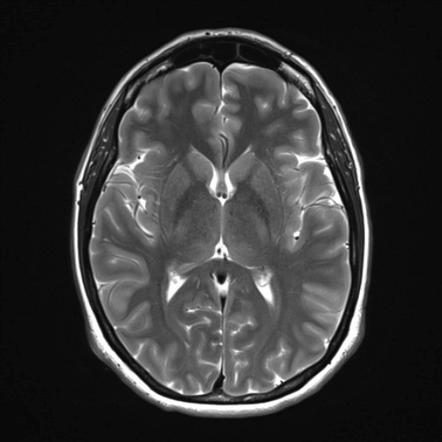Normal_Brain: (4, 5, 442, 442)
